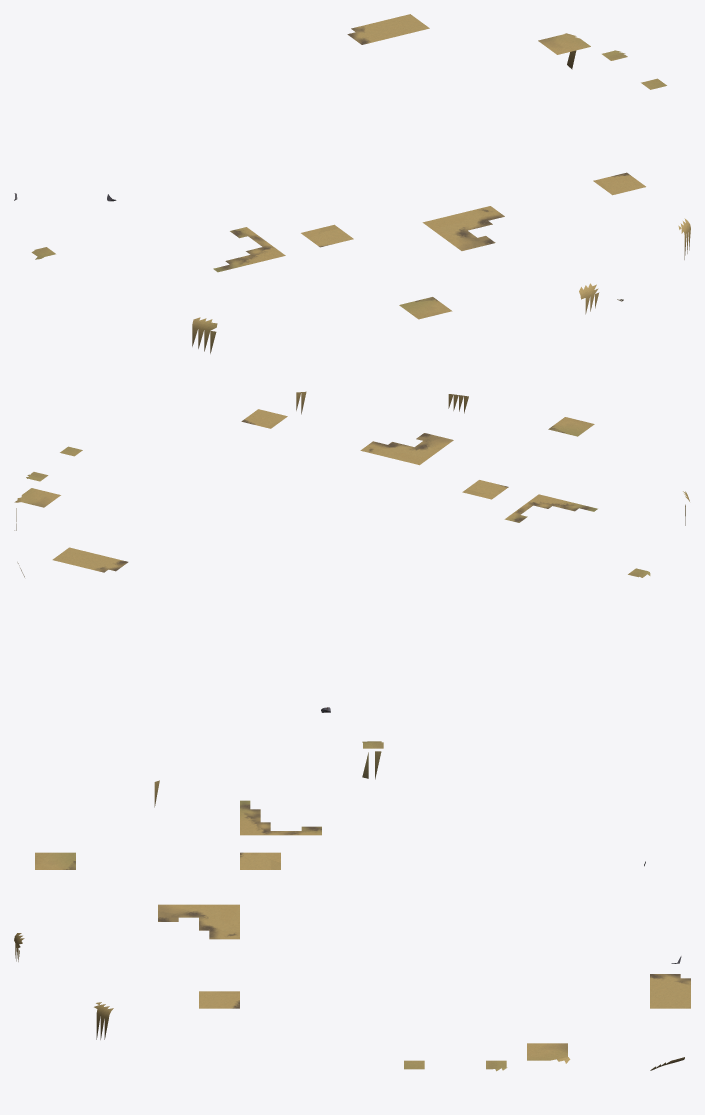
The picture shows the model from 3 angles, top to bottom: view 1: azimuth 30°, elevation 25°; view 2: azimuth 150°, elevation 25°; view 3: azimuth 270°, elevation 25°; orthographic projection. The views are drawn at different scales.
Parts seen in each view (by area): view 1: Grass_0_-3_0, Grass_-3_-2_0, Grass_4_1_0_010, Grass_2_3_0_100, Grass_-2_-2_0_100, Grass_2_-3_0_110, Grass_-2_-5_0_110, Grass_2_3_0_000, Grass_-4_-4_0_010_010; view 2: Grass_0_-3_0, Grass_-3_-2_0, Grass_4_1_0_010, Grass_2_-3_0_110, Grass_-2_-5_0_110, Grass_2_3_0_100, Grass_-2_-2_0_100; view 3: Grass_0_-3_0, Grass_-3_-2_0, Grass_4_1_0_010, Grass_-2_-2_0_100, Grass_-2_-5_0_110, Grass_2_-3_0_110, Grass_2_3_0_100, Grass_2_3_0_000.
Boxes of the visible parts, left/top/right/bottom form: Grass_0_-3_0: left=422, top=206, right=504, bottom=250; Grass_-3_-2_0: left=213, top=227, right=285, bottom=272; Grass_4_1_0_010: left=538, top=33, right=590, bottom=69; Grass_2_3_0_100: left=376, top=14, right=429, bottom=36; Grass_-2_-2_0_100: left=301, top=224, right=353, bottom=247; Grass_2_-3_0_110: left=593, top=172, right=645, bottom=195; Grass_-2_-5_0_110: left=399, top=297, right=452, bottom=319; Grass_2_3_0_000: left=347, top=22, right=395, bottom=44; Grass_-4_-4_0_010_010: left=192, top=317, right=217, bottom=353; Grass_0_-3_0: left=360, top=433, right=453, bottom=465; Grass_-3_-2_0: left=504, top=494, right=597, bottom=522; Grass_4_1_0_010: left=14, top=488, right=60, bottom=530; Grass_2_-3_0_110: left=241, top=409, right=287, bottom=428; Grass_-2_-5_0_110: left=548, top=417, right=594, bottom=436; Grass_2_3_0_100: left=52, top=547, right=98, bottom=567; Grass_-2_-2_0_100: left=462, top=480, right=508, bottom=499; Grass_0_-3_0: left=158, top=904, right=239, bottom=939; Grass_-3_-2_0: left=240, top=800, right=321, bottom=835; Grass_4_1_0_010: left=527, top=1043, right=570, bottom=1063; Grass_-2_-2_0_100: left=240, top=852, right=280, bottom=869; Grass_-2_-5_0_110: left=35, top=852, right=75, bottom=869; Grass_2_-3_0_110: left=199, top=991, right=239, bottom=1008; Grass_2_3_0_100: left=650, top=991, right=690, bottom=1008; Grass_2_3_0_000: left=650, top=974, right=690, bottom=991.
Size of the model in its own units: 612 by 95.04 by 528.
Materials: 19 (19 with a texture image).
